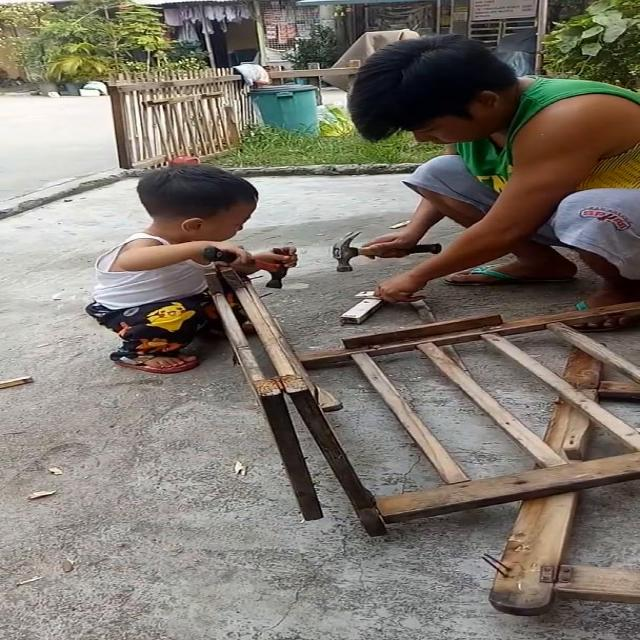hammer: (333, 231, 443, 273), (200, 246, 290, 289)
